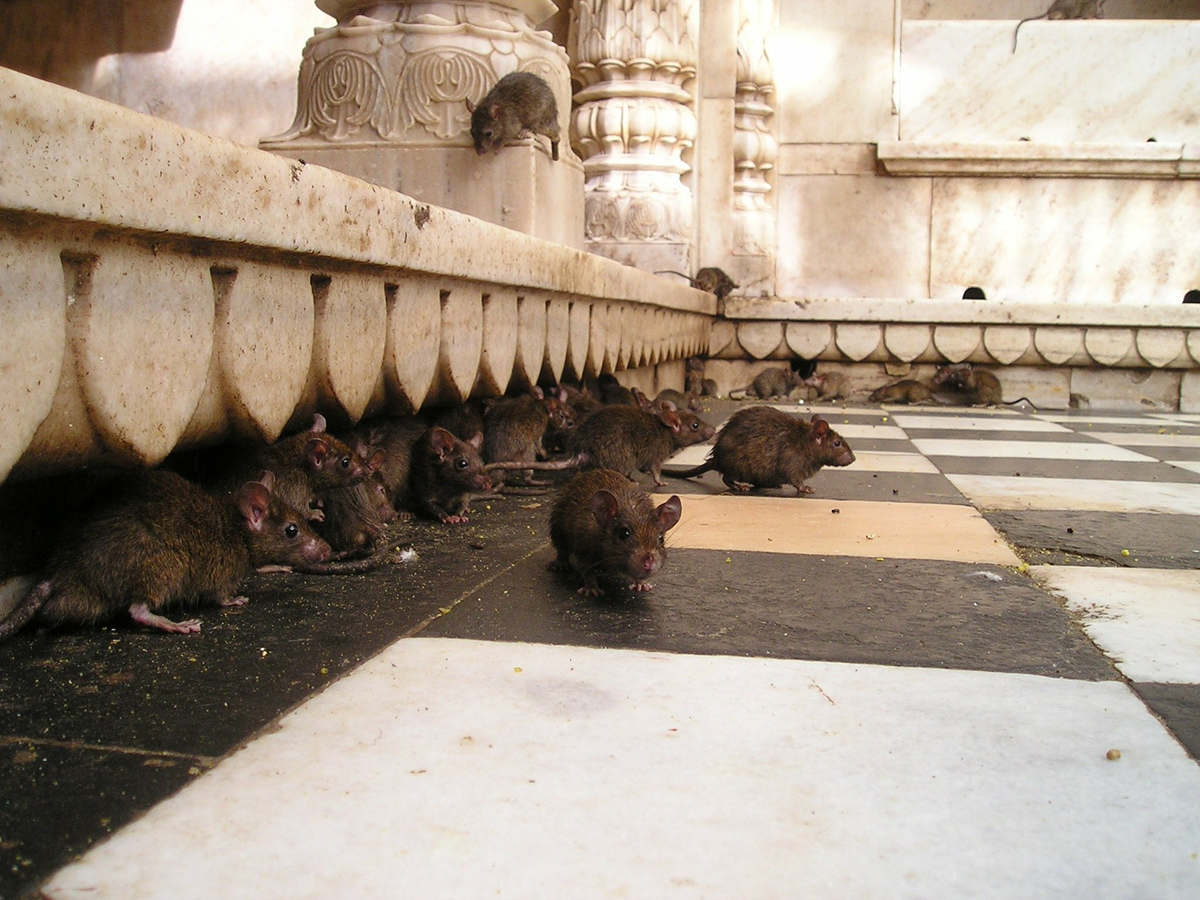rat: (35, 453, 345, 639), (264, 413, 415, 585), (539, 464, 698, 614), (707, 398, 866, 503), (535, 388, 721, 472), (397, 416, 511, 536)
